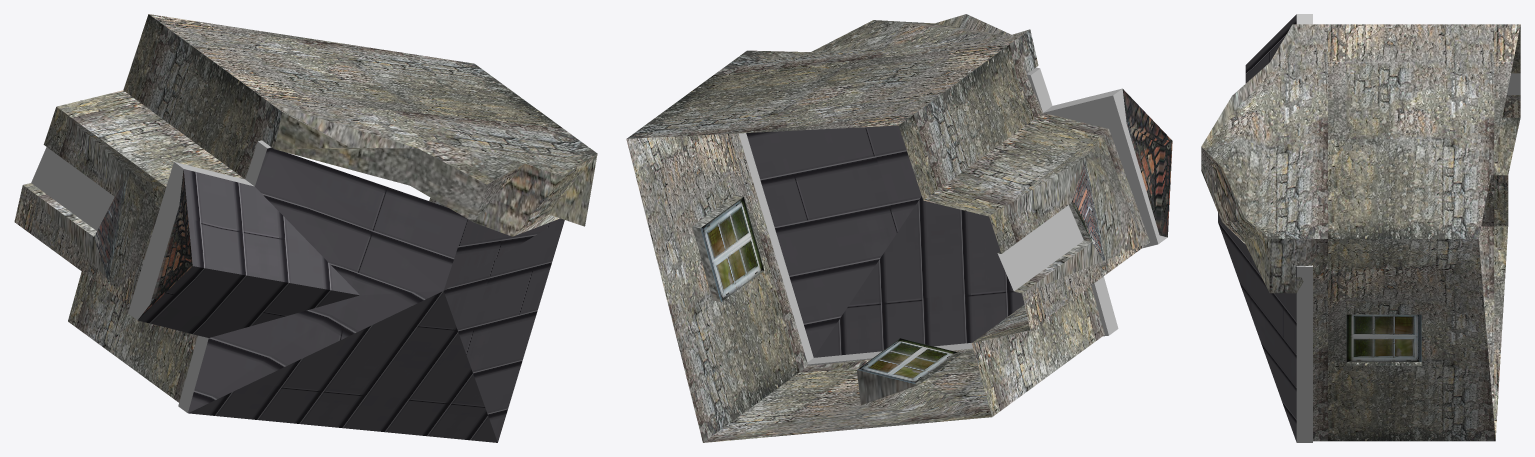
Rendered from Toompuiestee_30_2-origo.obj.
The picture shows the model from 3 angles, left to right: view 1: azimuth 30°, elevation 25°; view 2: azimuth 150°, elevation 25°; view 3: azimuth 270°, elevation 25°; orthographic projection. The views are drawn at different scales.
Parts seen in each view (by area): view 1: Toompuiestee_30_2; view 2: Toompuiestee_30_2; view 3: Toompuiestee_30_2.
Boxes of the visible parts, <box> form: Toompuiestee_30_2: <box>14,14,597,442</box>; Toompuiestee_30_2: <box>626,14,1172,442</box>; Toompuiestee_30_2: <box>1201,14,1520,442</box>.
Bounding box in the file's own units: 6.62 × 5.5 × 4.85.
